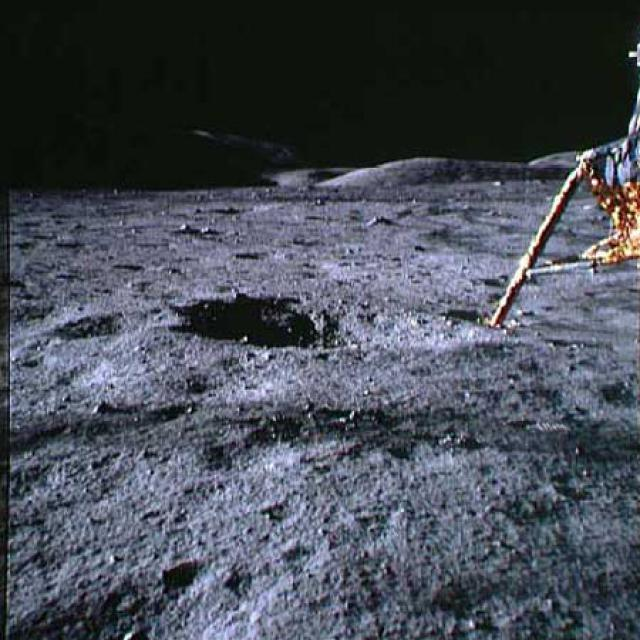artifact: (491, 28, 638, 334)
crater: (169, 294, 472, 348), (64, 304, 180, 337)
